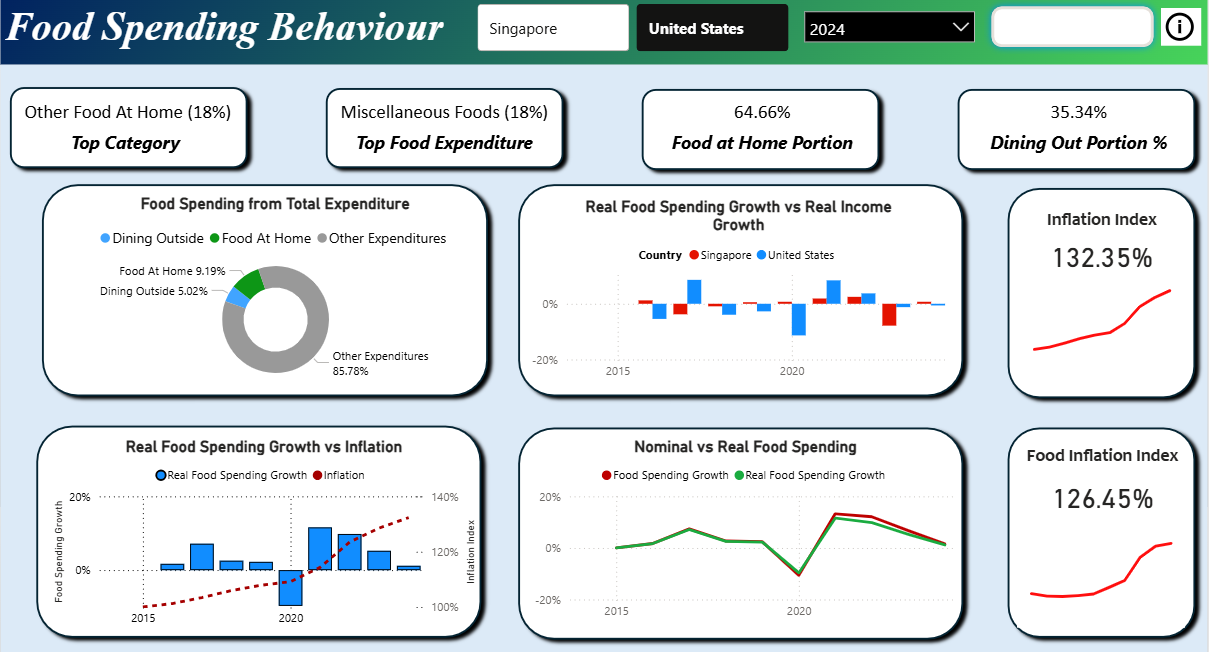

The page's visual inventory and layout, read from the dashboard file:
{"tool":"powerbi","page":{"name":"Main Page","canvas":[1280,720],"ordinal":0},"visuals":[{"type":"group","id":"g1","title":"Group 1","box":[1081.6,232.2,173.4,189.3],"z":0},{"type":"advancedSlicerVisual","fields":{"Values":["Country Dim.Country"]},"box":[501,15.9,342,60.4],"z":1000},{"type":"textbox","box":[0,15.9,482,62],"z":2000},{"type":"slicer","fields":{"Values":["Year Dim.Year"]},"box":[843,19.1,200.4,52.5],"z":3000},{"type":"donutChart","title":"Food Spending from Total Expenditure","fields":{"Series":["AME Percentage.Attribute"],"Y":["Sum(AME Percentage.Value)"]},"box":[36.6,222.7,510.6,210],"z":4000},{"type":"lineChart","title":"Nominal vs Real Food Spending ","fields":{"Category":["Growth Percentage.Year"],"Y":["Sum(Growth Percentage.Food Spending Growth)","Sum(Growth Percentage.Real Food Spending Growth)"]},"box":[561.5,480.4,458.1,202],"z":5000},{"type":"clusteredColumnChart","title":"Real Food Spending Growth vs Real Income Growth","fields":{"Category":["Growth Percentage.Year"],"Y":["Sum(Growth Percentage.Food Minus Income Growth)"],"Series":["Country Dim.Country"]},"box":[558.3,225.9,450.1,202],"z":6000},{"type":"card","fields":{"Values":["Average Monthly Expenditure.Dining Out Portion %"]},"box":[1008.4,100.2,270.4,95.4],"z":7000},{"type":"lineClusteredColumnComboChart","title":"Real Food Spending Growth vs Inflation ","fields":{"Category":["Growth Percentage.Year"],"Y":["Sum(Growth Percentage.Real Food Spending Growth)"],"Y2":["Sum(Growth Percentage.Inflation )"]},"box":[50.9,480.4,458.1,210],"z":8000},{"type":"group","id":"g2","title":"Group 2","box":[1078.4,488.3,179.7,194.1],"z":9000},{"type":"card","fields":{"Values":["Average Monthly Expenditure.Food at Home Portion"]},"box":[672.3,100.2,270.4,95.4],"z":10000},{"type":"card","fields":{"Values":["Measures Table.Top Type of Expenditure"]},"box":[336.1,100.2,270.4,95.4],"z":11000},{"type":"card","fields":{"Values":["Measures Table.Top Category (Card)"]},"box":[0,100.2,270.4,95.4],"z":12000},{"type":"lineChart","fields":{"Category":["Growth Percentage.Year"],"Y":["Sum(Growth Percentage.Food Inflation)"]},"box":[1078.4,531.2,178.1,151.1],"z":12000,"group":"g2"},{"type":"lineChart","fields":{"Category":["Growth Percentage.Year"],"Y":["Sum(Growth Percentage.Inflation)"]},"box":[1081.7,277.5,173.5,145.4],"z":12500,"group":"g1"},{"type":"actionButton","box":[1043.4,15.9,187.7,58.9],"z":13000},{"type":"actionButton","box":[1231.1,25.4,42.9,39.8],"z":14000},{"type":"card","title":"Inflation Index","fields":{"Values":["Sum(Growth Percentage.Inflation)"]},"box":[1081.6,232.2,173.4,84.3],"z":14000,"group":"g1"},{"type":"card","title":"Food Inflation Index","fields":{"Values":["Sum(Growth Percentage.Food Inflation)"]},"box":[1080,488.3,178.1,87.5],"z":15500,"group":"g2"}]}

Visuals, with their boxes on the page's 1280x720 design canvas (x1, y1, x2, y2). These are canvas units, not pixel positions in the 1209x652 screenshot, which may show the page scaled, cropped or inside an application window:
"Group 1" group: 1082/232/1255/422
advancedSlicerVisual - Country Dim.Country: 501/16/843/76
textbox: 0/16/482/78
slicer - Year Dim.Year: 843/19/1043/72
"Food Spending from Total Expenditure" donutChart: 37/223/547/433
"Nominal vs Real Food Spending " lineChart: 562/480/1020/682
"Real Food Spending Growth vs Real Income Growth" clusteredColumnChart: 558/226/1008/428
card - Average Monthly Expenditure.Dining Out Portion %: 1008/100/1279/196
"Real Food Spending Growth vs Inflation " lineClusteredColumnComboChart: 51/480/509/690
"Group 2" group: 1078/488/1258/682
card - Average Monthly Expenditure.Food at Home Portion: 672/100/943/196
card - Measures Table.Top Type of Expenditure: 336/100/606/196
card - Measures Table.Top Category (Card): 0/100/270/196
lineChart - Growth Percentage.Year x Sum(Growth Percentage.Food Inflation): 1078/531/1256/682
lineChart - Growth Percentage.Year x Sum(Growth Percentage.Inflation): 1082/278/1255/423
actionButton: 1043/16/1231/75
actionButton: 1231/25/1274/65
"Inflation Index" card: 1082/232/1255/316
"Food Inflation Index" card: 1080/488/1258/576
